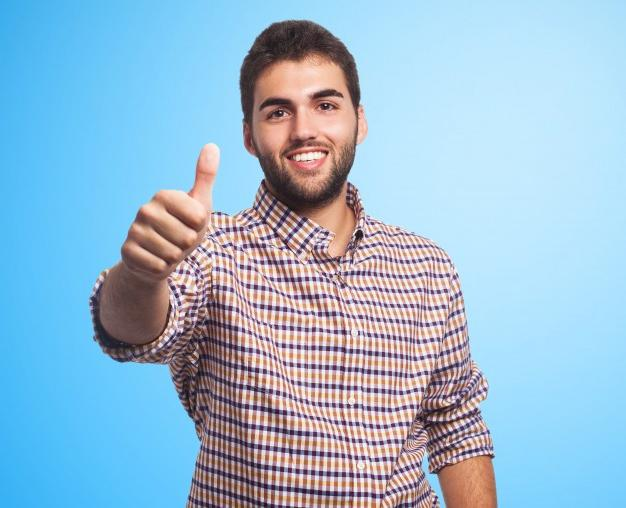thumbsup: (120, 142, 221, 277)
